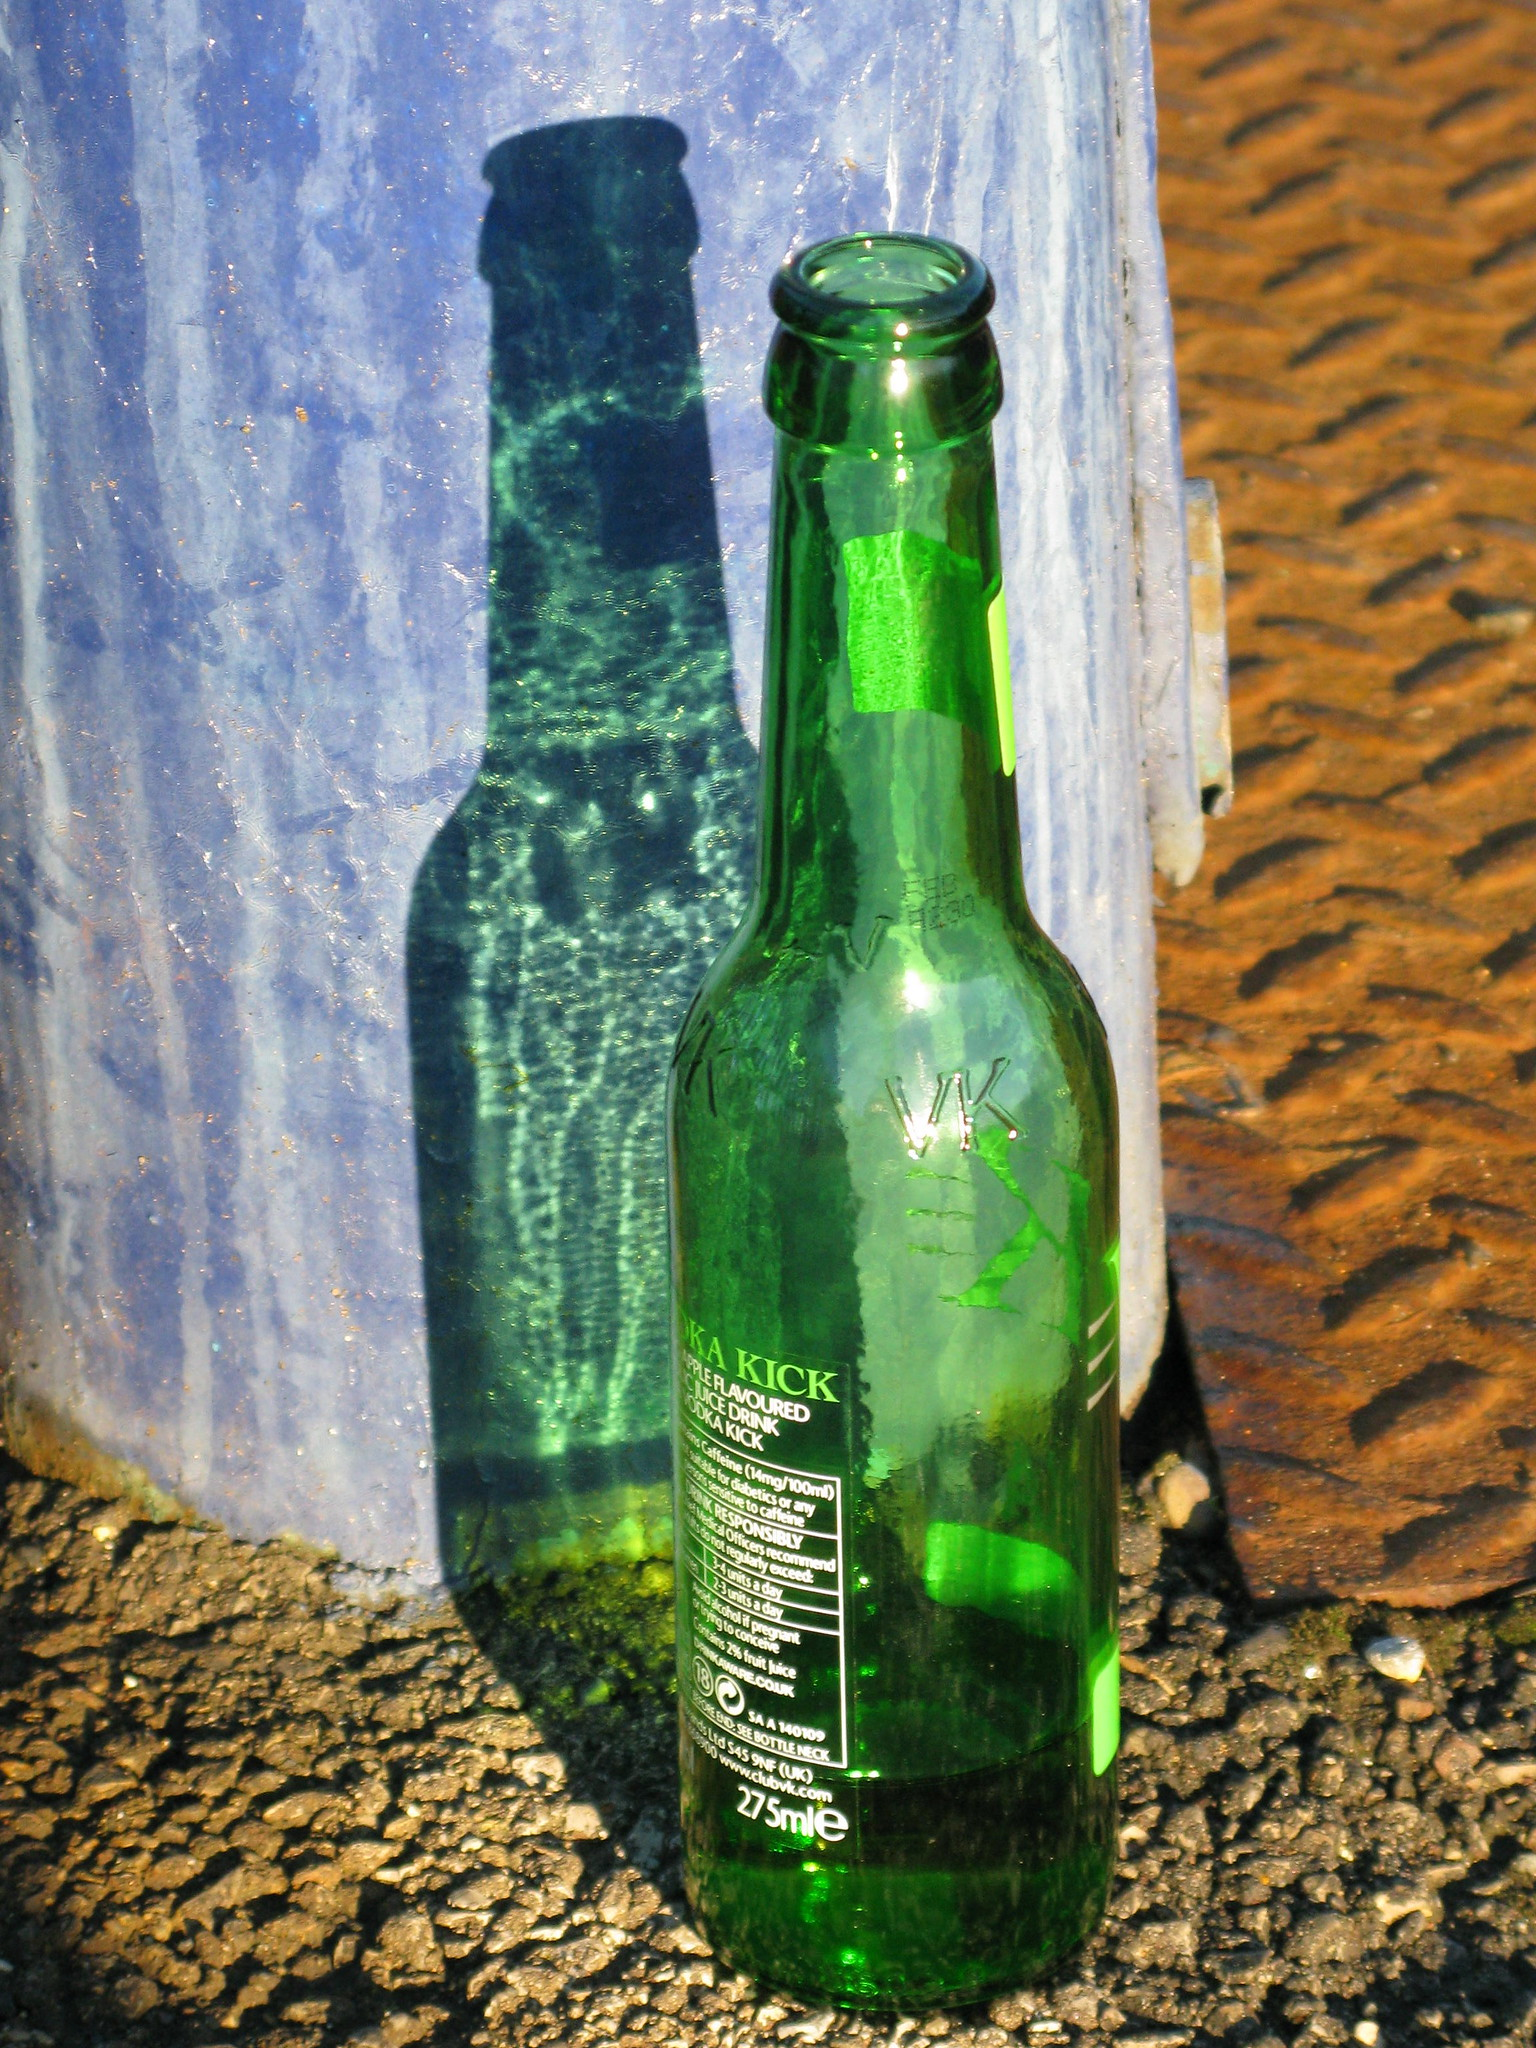bottle: (666, 235, 1123, 2024)
